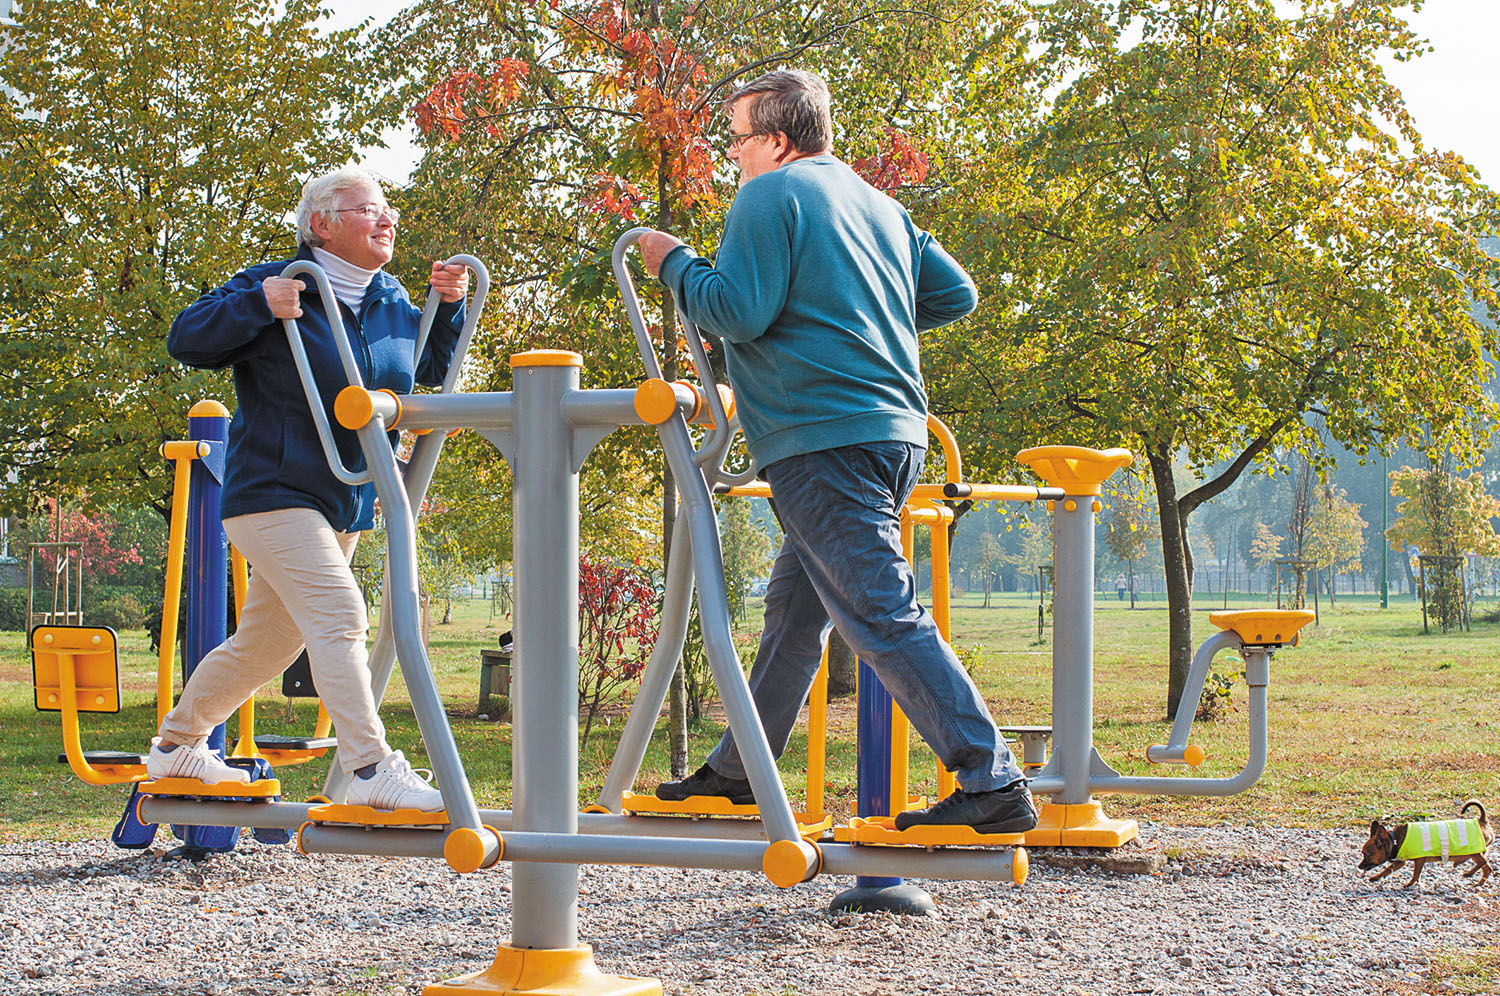Person: (625, 55, 1093, 847), (104, 160, 493, 889)
